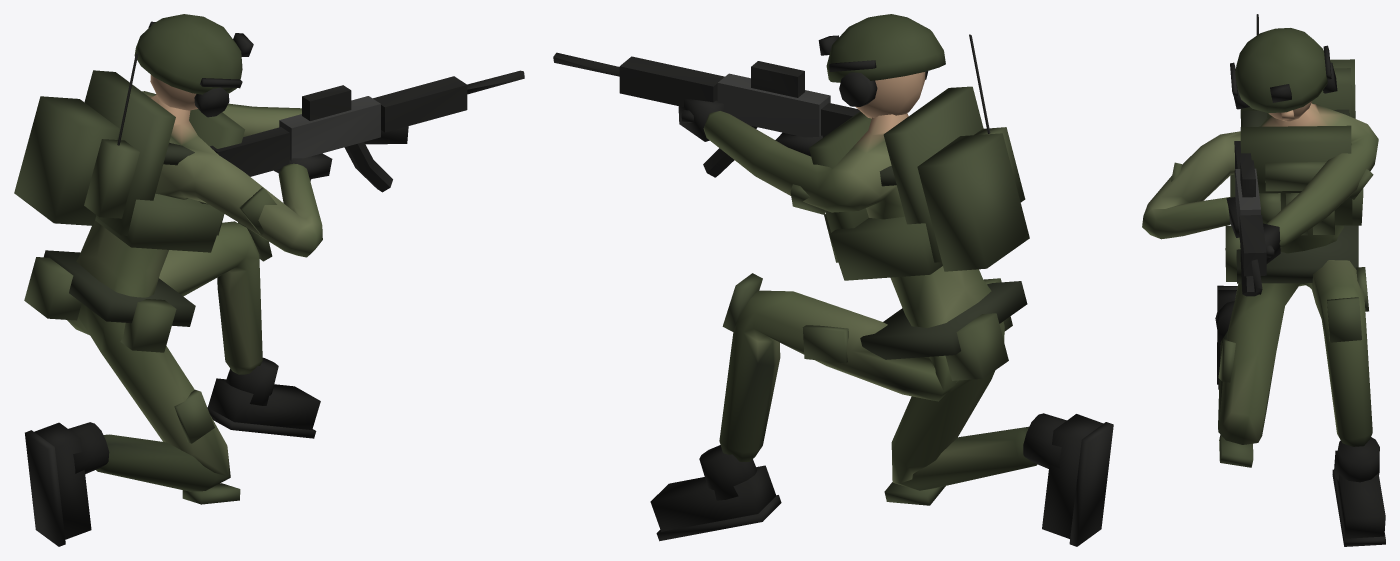
File: soldier_kneel_opfor.glb
3 renders of one model, left to right at view 1: azimuth 30°, elevation 25°; view 2: azimuth 150°, elevation 25°; view 3: azimuth 270°, elevation 25°, orthographic. The views are drawn at different scales.
Parts seen in each view (by area): view 1: soldier; view 2: soldier; view 3: soldier.
Boxes of the visible parts, x1,y1,x2,y2 form: soldier: (14,14,524,546); soldier: (553,14,1113,546); soldier: (1142,14,1385,546).
Bounding box in the file's own units: 1.4 × 1.3 × 0.6527.
